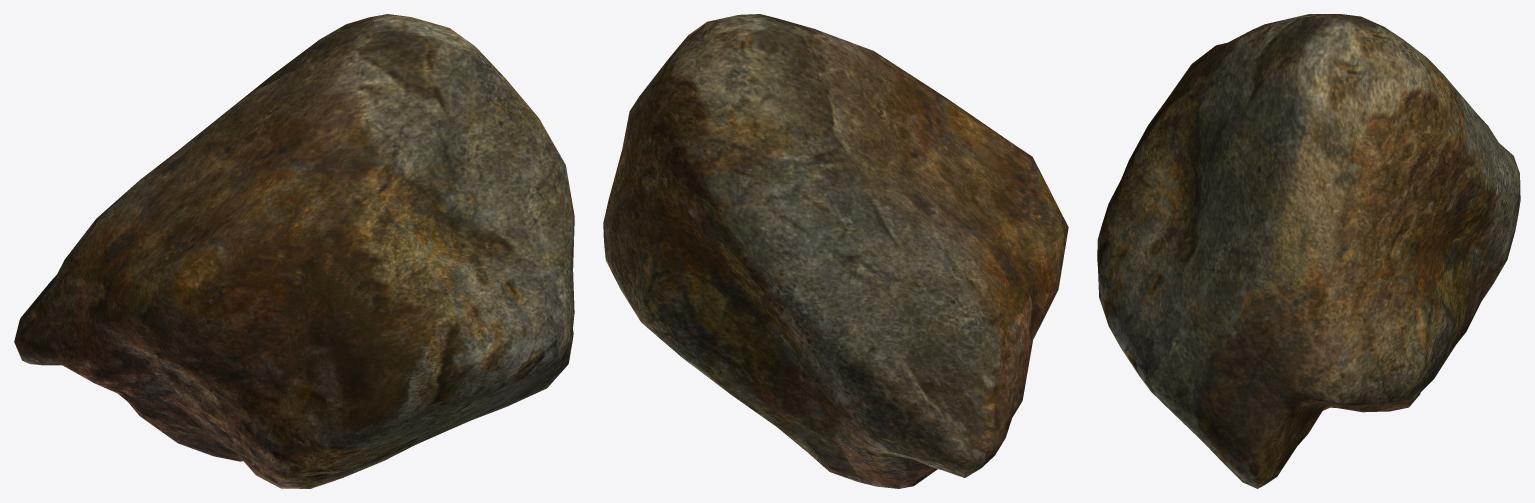
Rendered from steinarrock.glb.
3 views of the same model, side by side, from view 1: azimuth 30°, elevation 25°; view 2: azimuth 150°, elevation 25°; view 3: azimuth 270°, elevation 25° (orthographic). The views are drawn at different scales.
Parts seen in each view (by area): view 1: SteinarRock; view 2: SteinarRock; view 3: SteinarRock.
Boxes of the visible parts, x1,y1,x2,y2 form: SteinarRock: [14, 14, 574, 488]; SteinarRock: [603, 14, 1068, 488]; SteinarRock: [1097, 14, 1520, 488].
Size of the model in its own units: 1.24 by 1.06 by 0.8999.
Materials: 1 (1 with a texture image).
